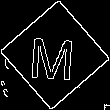M_N: (30, 28, 80, 82)
